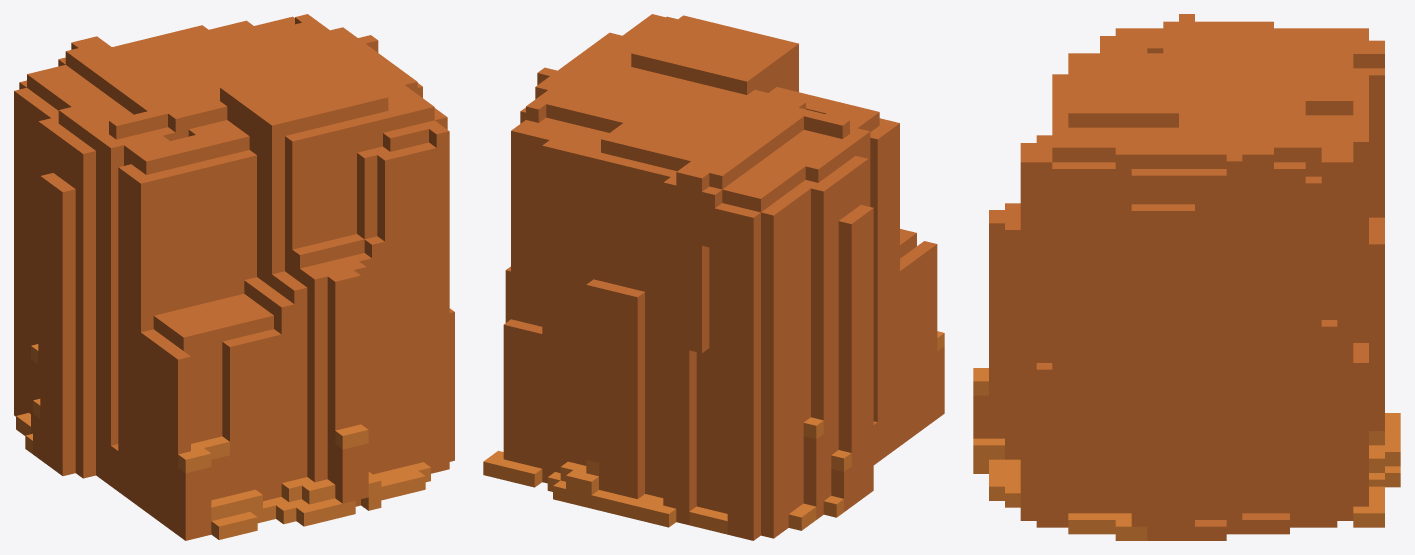
Rendered from Elm_6.obj.
3 views of the same model, side by side, from view 1: azimuth 30°, elevation 25°; view 2: azimuth 150°, elevation 25°; view 3: azimuth 270°, elevation 25° (orthographic). The views are drawn at different scales.
Bounding box in the file's own units: 26 × 27 × 27.
Materials: 1 (1 with a texture image).
